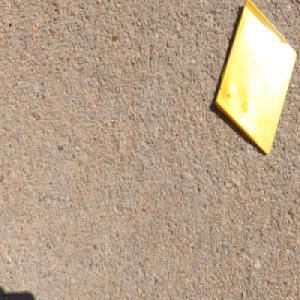PlasticPart: (213, 0, 297, 156)
